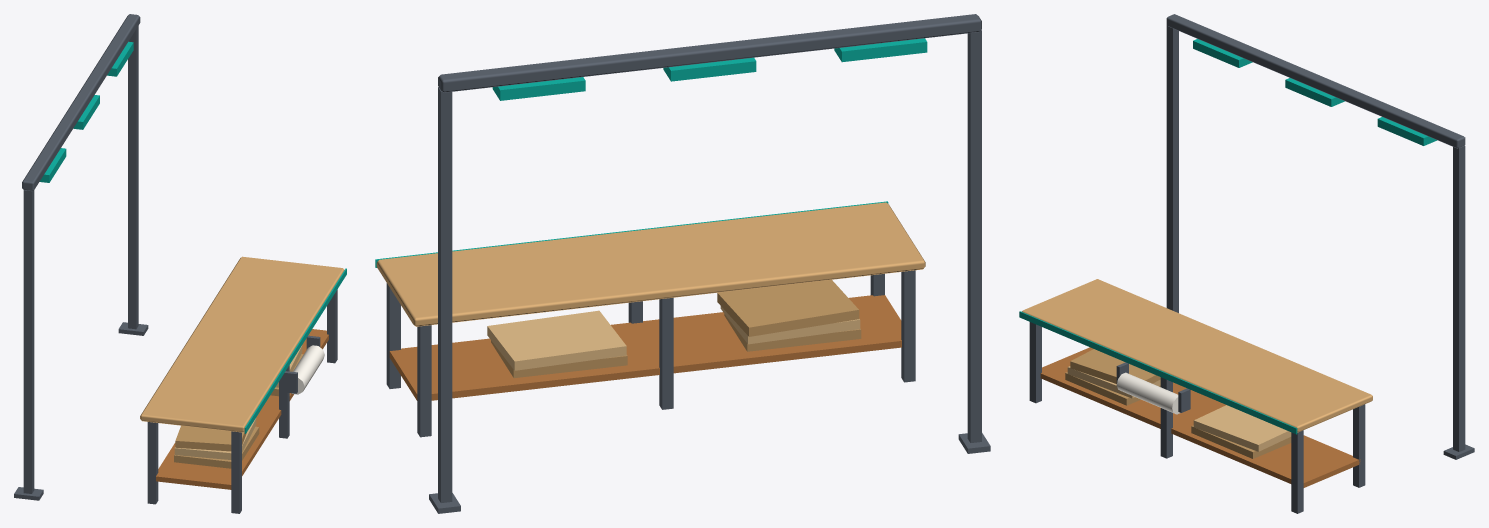
Rendered from station_processing_basis.glb.
3 renders of one model, left to right at view 1: azimuth 30°, elevation 25°; view 2: azimuth 150°, elevation 25°; view 3: azimuth 270°, elevation 25°, orthographic. The views are drawn at different scales.
Parts seen in each view (by area): view 1: station_processing_basis; view 2: station_processing_basis; view 3: station_processing_basis.
Boxes of the visible parts, box(x1,y1,x2,y2) form: station_processing_basis: box(14, 14, 346, 513); station_processing_basis: box(375, 14, 990, 513); station_processing_basis: box(1019, 14, 1474, 513).
Bounding box in the file's own units: 2.09 × 1.61 × 2.09.
